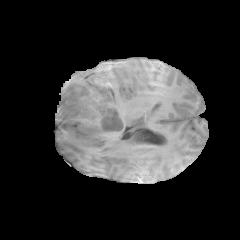glioma: (56, 61, 125, 144)
